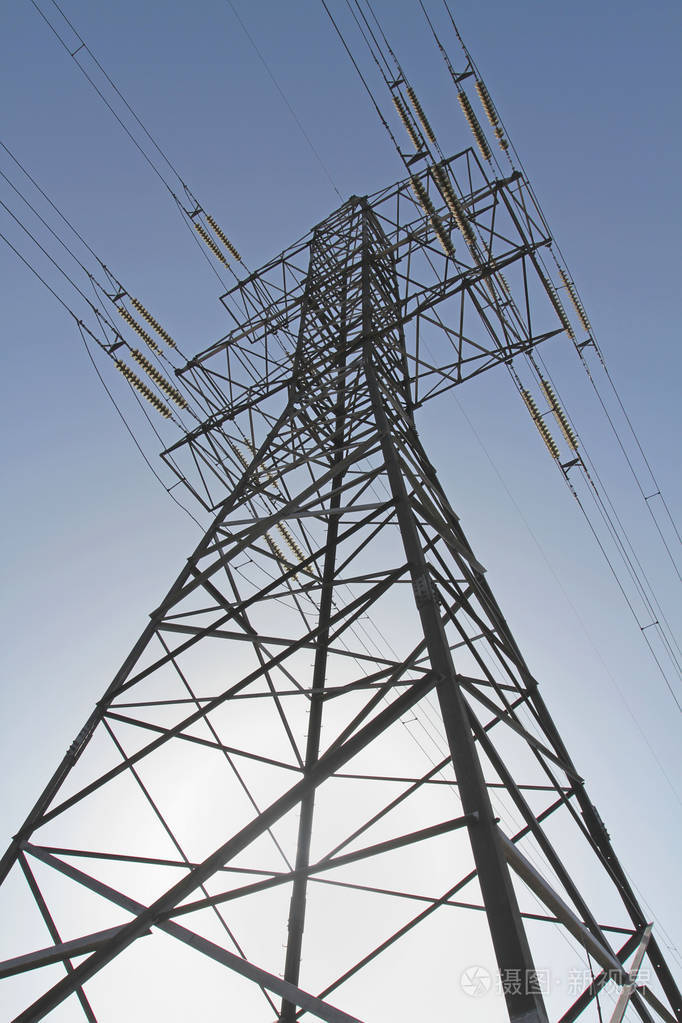insulator: (410, 171, 476, 261), (116, 350, 190, 421), (517, 379, 579, 459), (455, 80, 511, 164), (117, 299, 183, 361), (390, 87, 438, 155), (549, 270, 591, 343), (192, 212, 242, 266)
